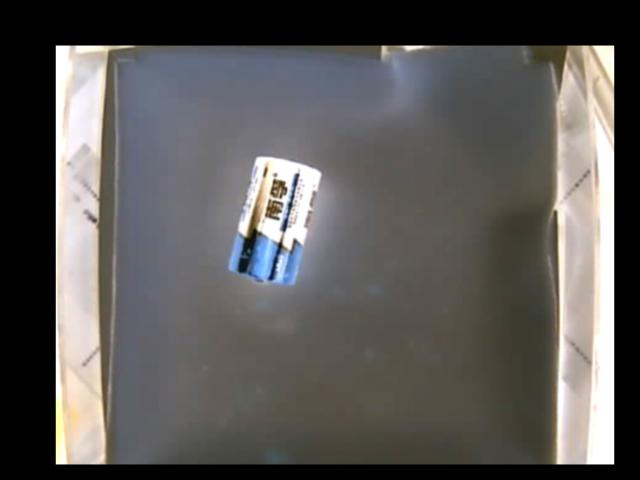Battery: (226, 156, 322, 286)
